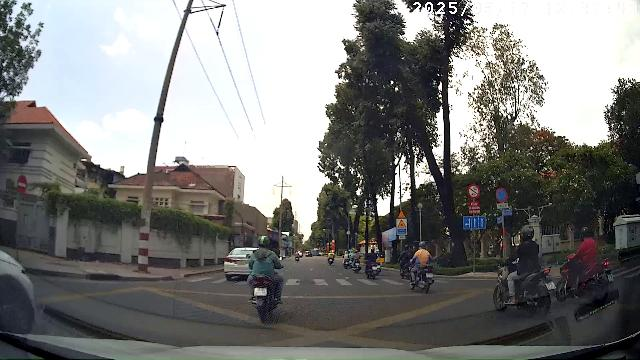131a-cam-do-xe: (496, 187, 508, 202)
